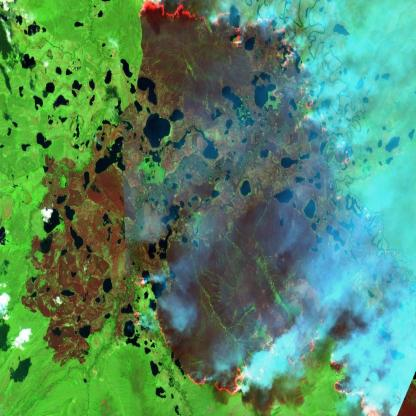fire: (131, 0, 353, 205), (121, 269, 416, 416)
